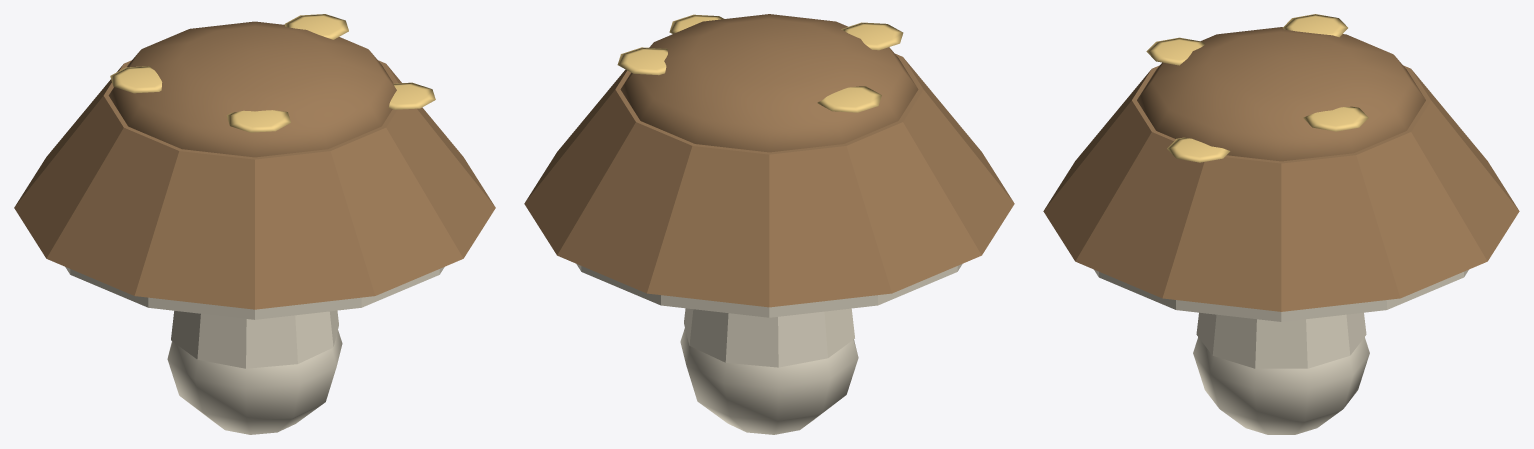
File: mushroom_brown.glb
The picture shows the model from 3 angles, left to right: view 1: azimuth 30°, elevation 25°; view 2: azimuth 150°, elevation 25°; view 3: azimuth 270°, elevation 25°; orthographic projection. The views are drawn at different scales.
Visible parts, largest first — view 1: mushroom_brown_root; view 2: mushroom_brown_root; view 3: mushroom_brown_root.
Part boxes in pixels (left/top/right/bottom): mushroom_brown_root: left=14, top=14, right=495, bottom=434; mushroom_brown_root: left=524, top=14, right=1014, bottom=434; mushroom_brown_root: left=1043, top=14, right=1519, bottom=434.
Size of the model in its own units: 0.7 by 0.6 by 0.7.
